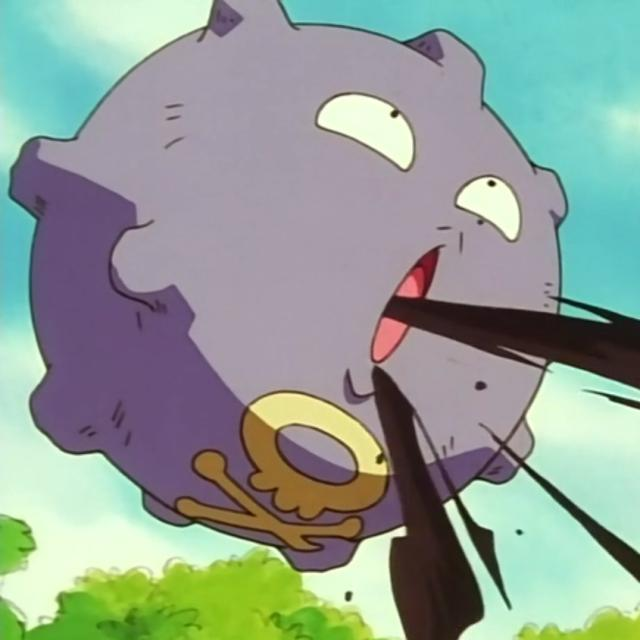Koffing: (13, 0, 579, 584)
